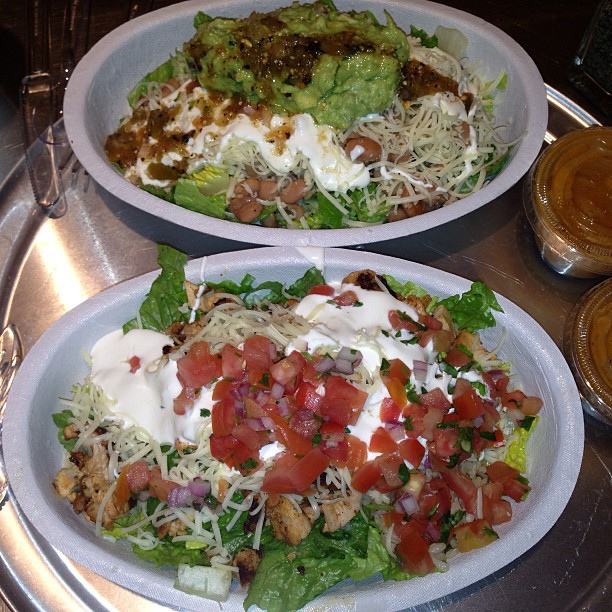chopped lettuce: (134, 247, 487, 332), (133, 497, 406, 604), (188, 175, 381, 238)
